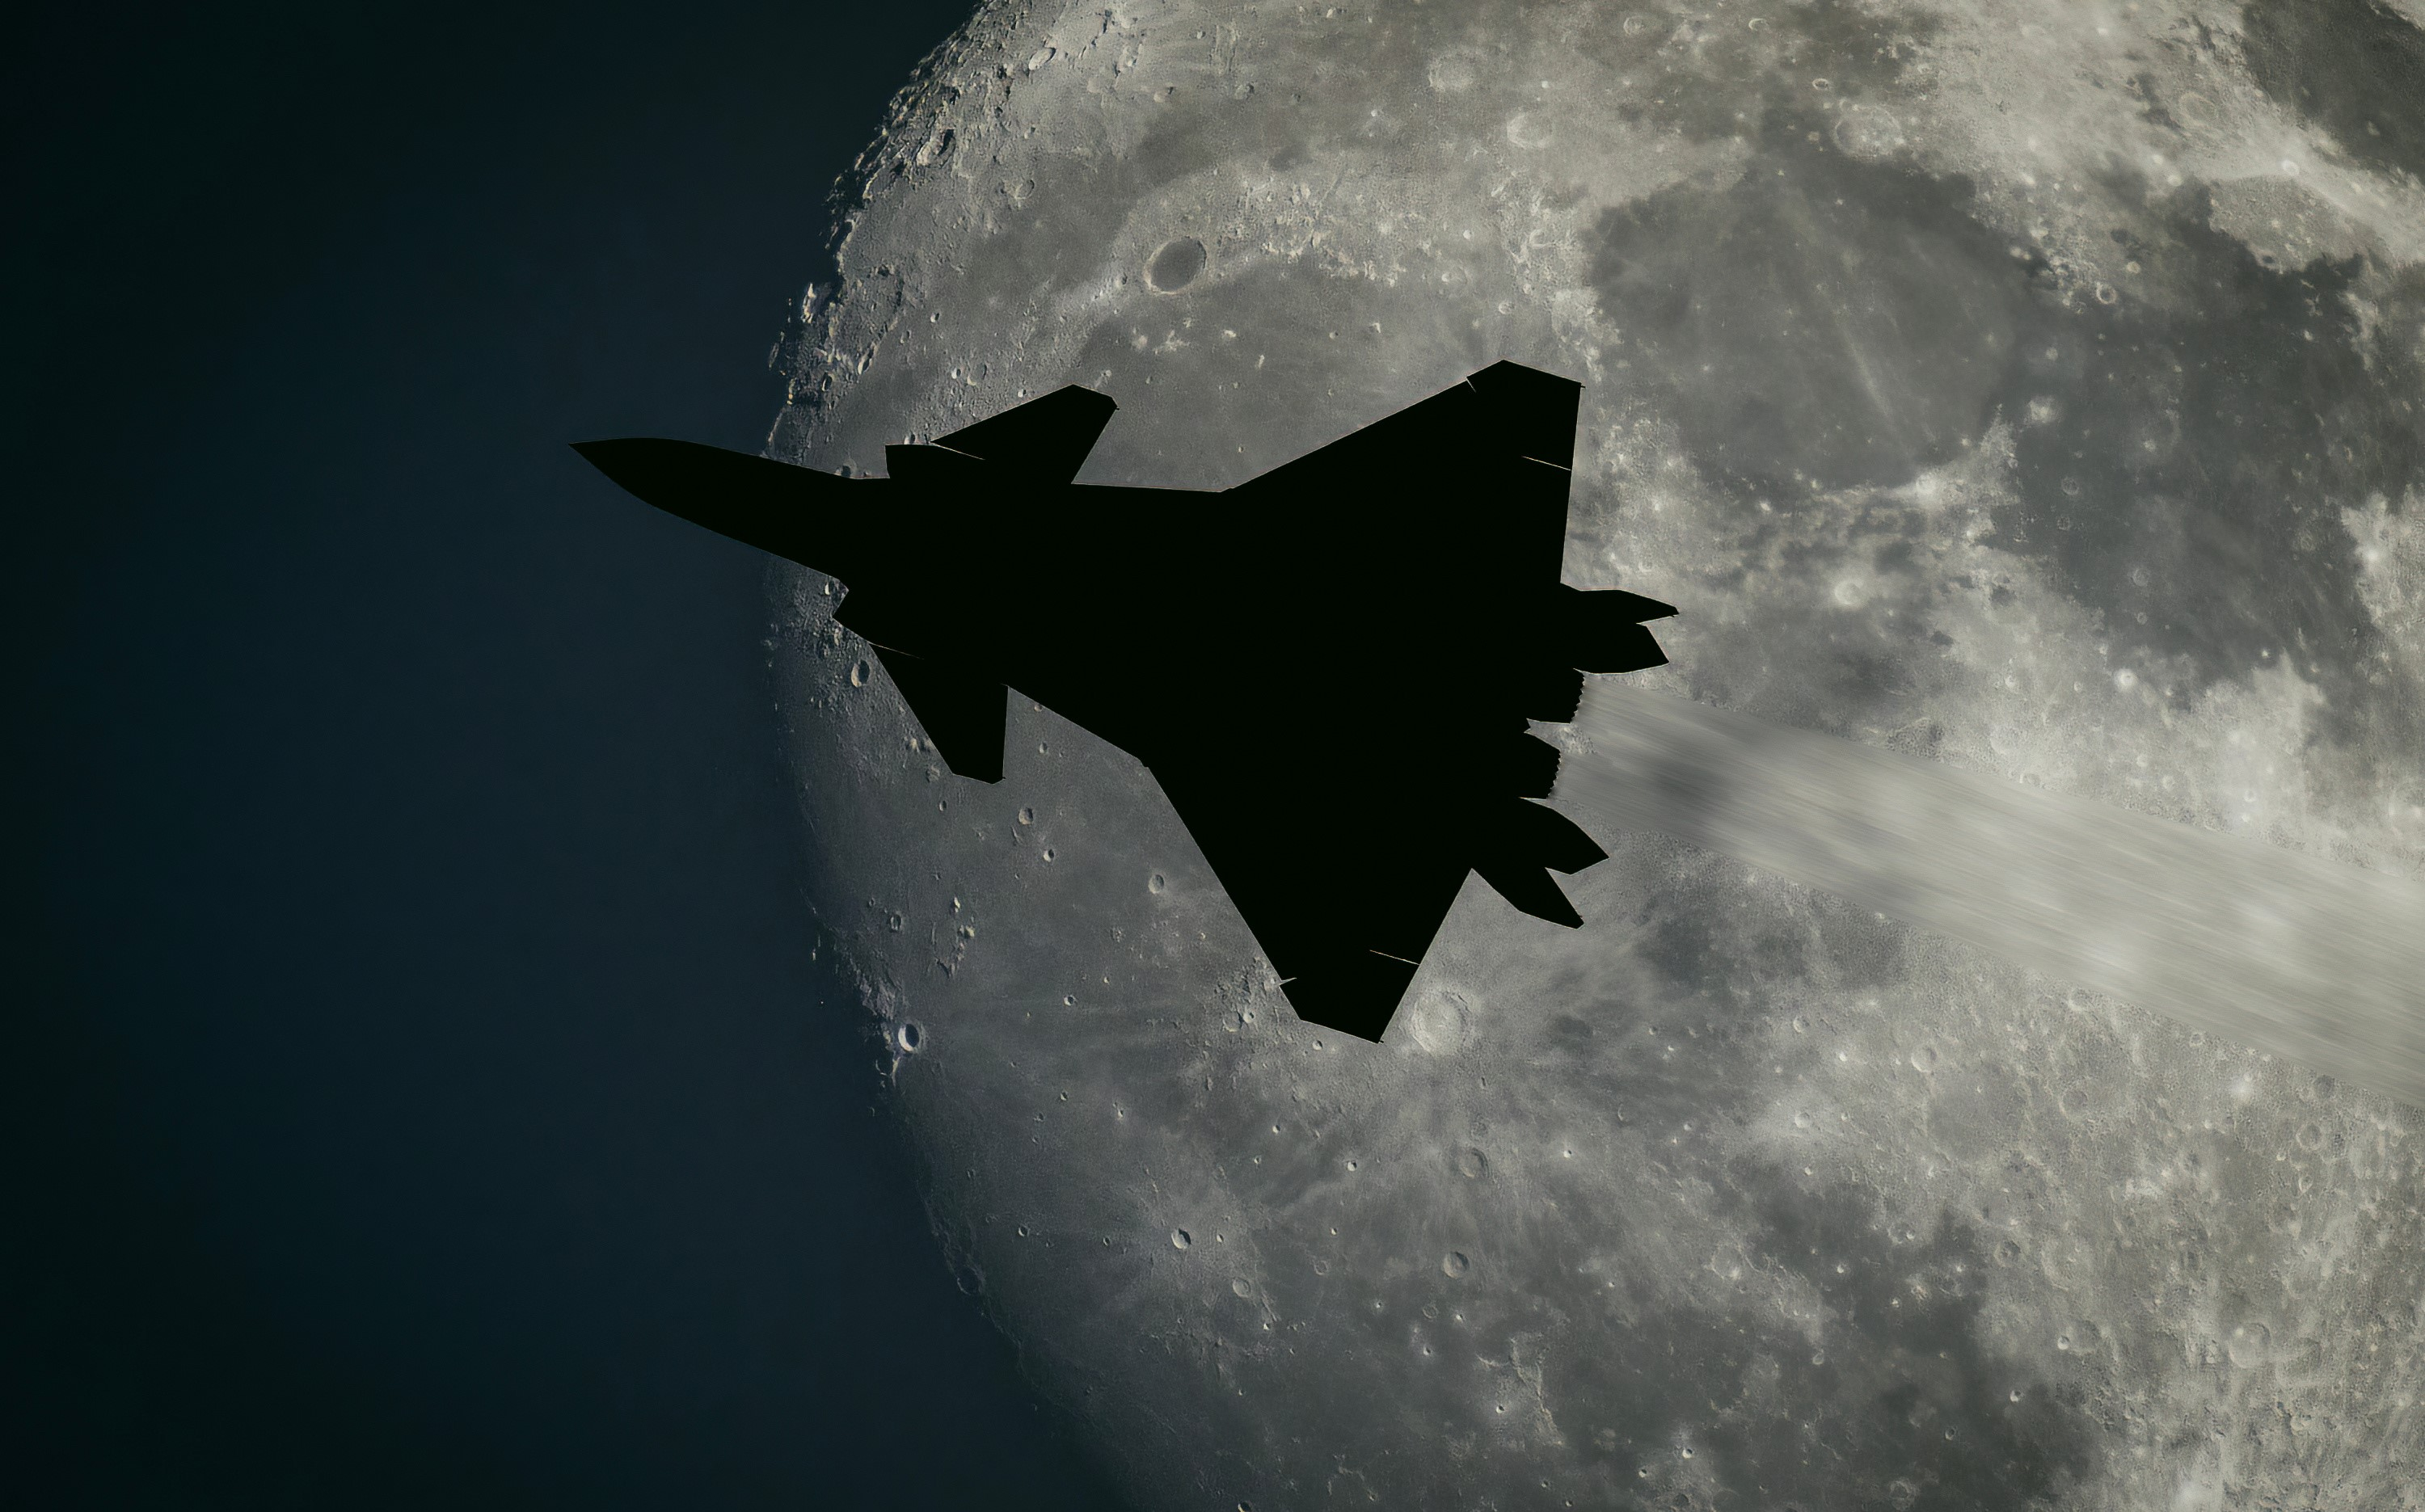J20: (568, 359, 1679, 1045)
